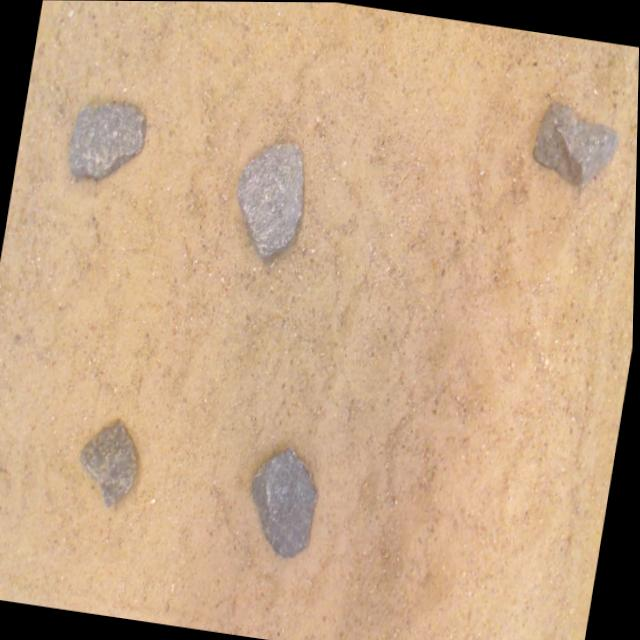rock: (237, 141, 304, 255), (254, 447, 319, 555), (534, 100, 618, 183), (69, 101, 146, 178), (83, 419, 139, 505)
